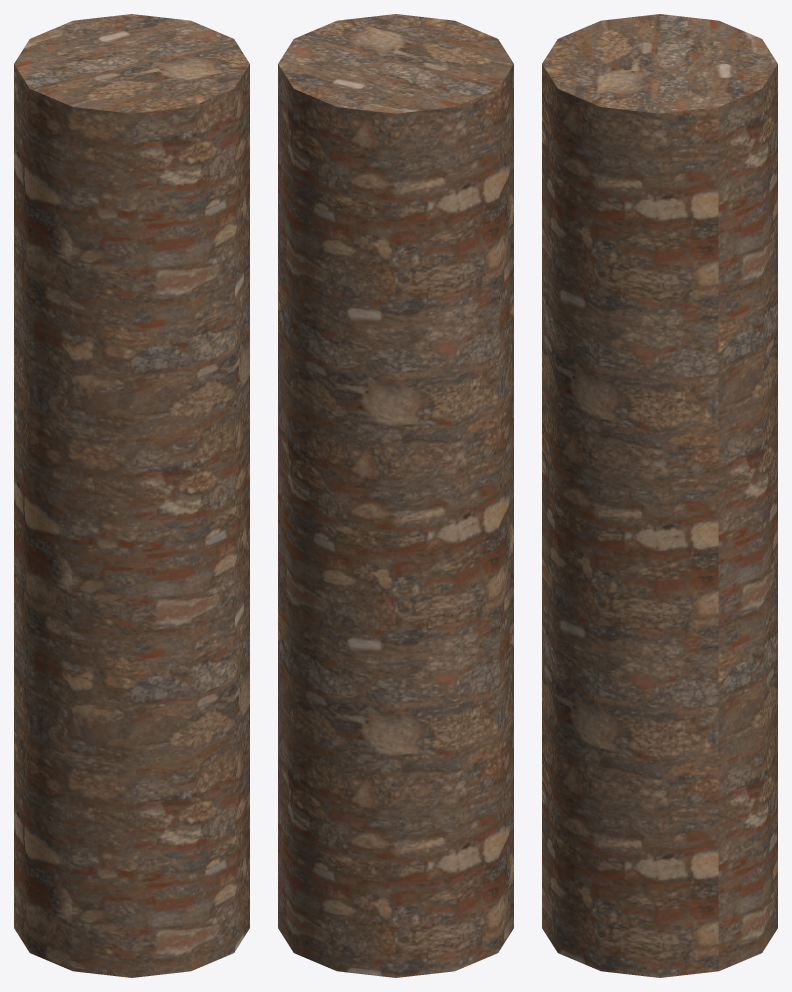
Rendered from pillar.glb.
3 renders of one model, left to right at view 1: azimuth 30°, elevation 25°; view 2: azimuth 150°, elevation 25°; view 3: azimuth 270°, elevation 25°, orthographic.
Visible parts, largest first — view 1: pillar; view 2: pillar; view 3: pillar.
Boxes of the visible parts, bbox=[...] form: pillar: bbox=[14, 14, 249, 977]; pillar: bbox=[278, 14, 513, 977]; pillar: bbox=[542, 14, 777, 977].
Bounding box in the file's own units: 1.48 × 6 × 1.48.
1 material, 1 textured.
